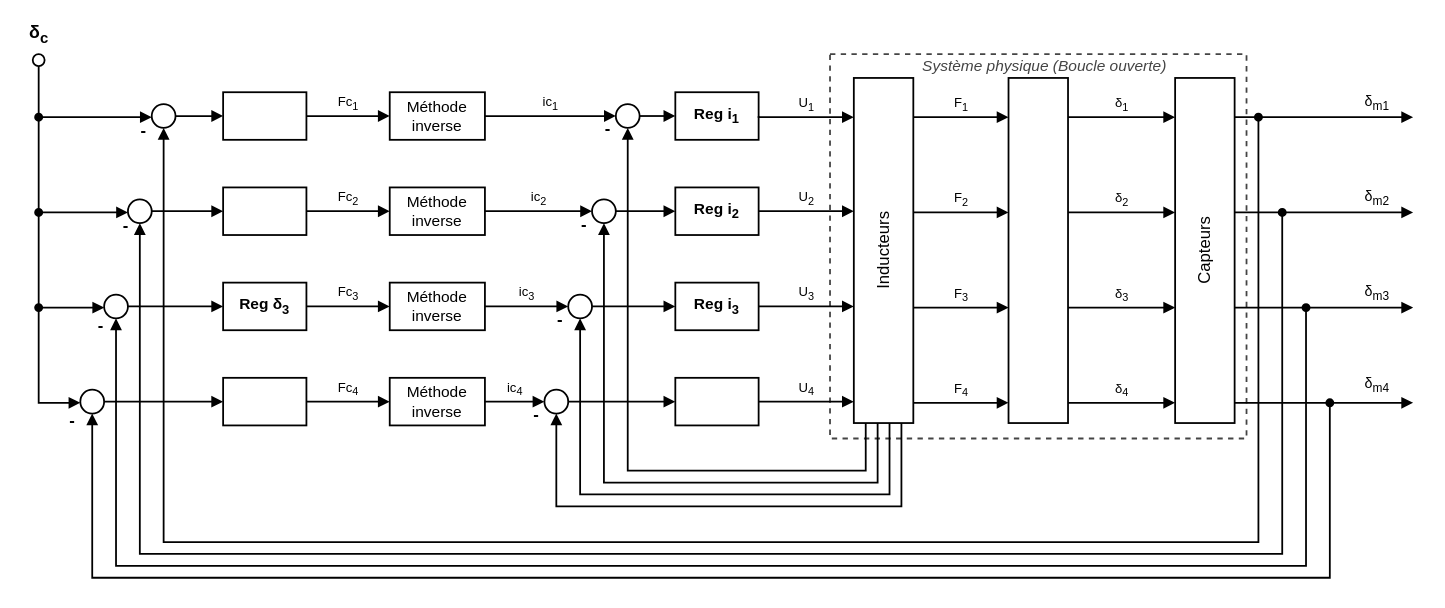
This 1445x608 diagram has some shape labels left out. Each missing label, with the centre of its shape:
Reg i 4: (716,401)
Reg δ 1: (264,115)
Reg δ 2: (264,210)
Reg δ 4: (264,401)
Véhicule: (1037,250)
